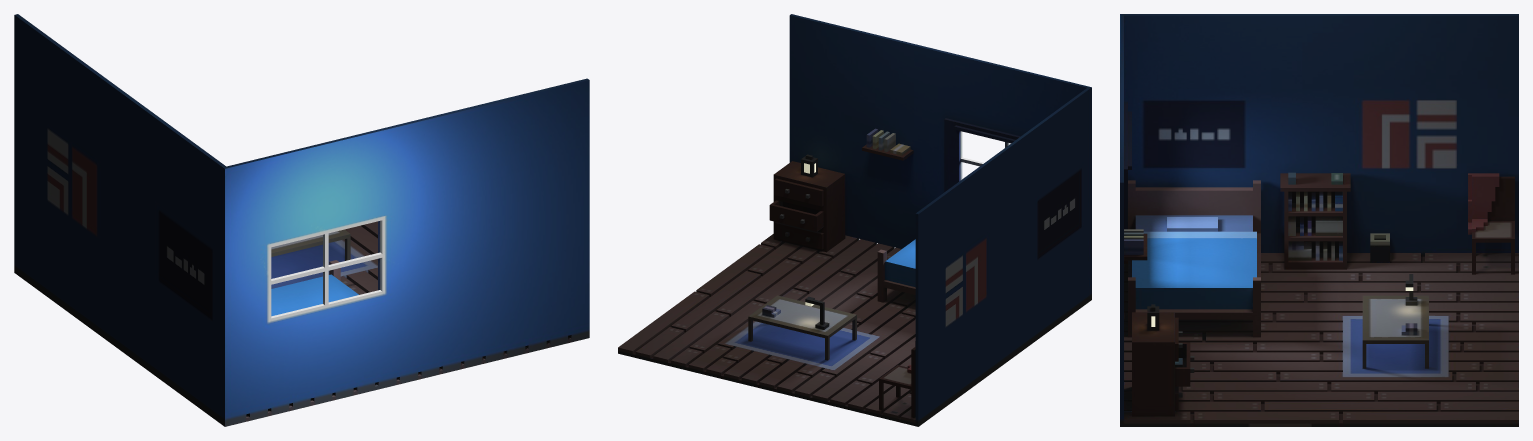
3 renders of one model, left to right at view 1: azimuth 30°, elevation 25°; view 2: azimuth 150°, elevation 25°; view 3: azimuth 270°, elevation 25°, orthographic. The views are drawn at different scales.
Parts seen in each view (by area): view 1: bedroom.merged; view 2: bedroom.merged; view 3: bedroom.merged.
Boxes of the visible parts, left/top/right/bottom form: bedroom.merged: left=14, top=14, right=589, bottom=426; bedroom.merged: left=618, top=14, right=1091, bottom=426; bedroom.merged: left=1120, top=14, right=1518, bottom=426.
Size of the model in its own units: 102 by 69 by 102.
Materials: 3 (1 with a texture image).
